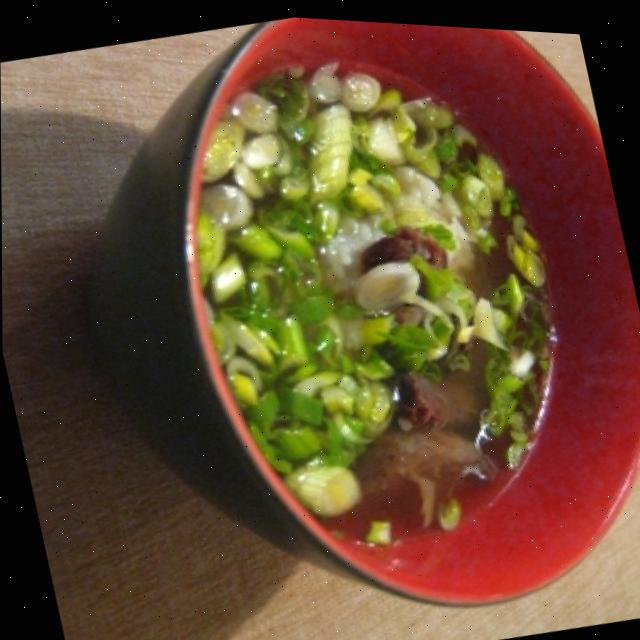汤锅炖物: (111, 5, 640, 620)
